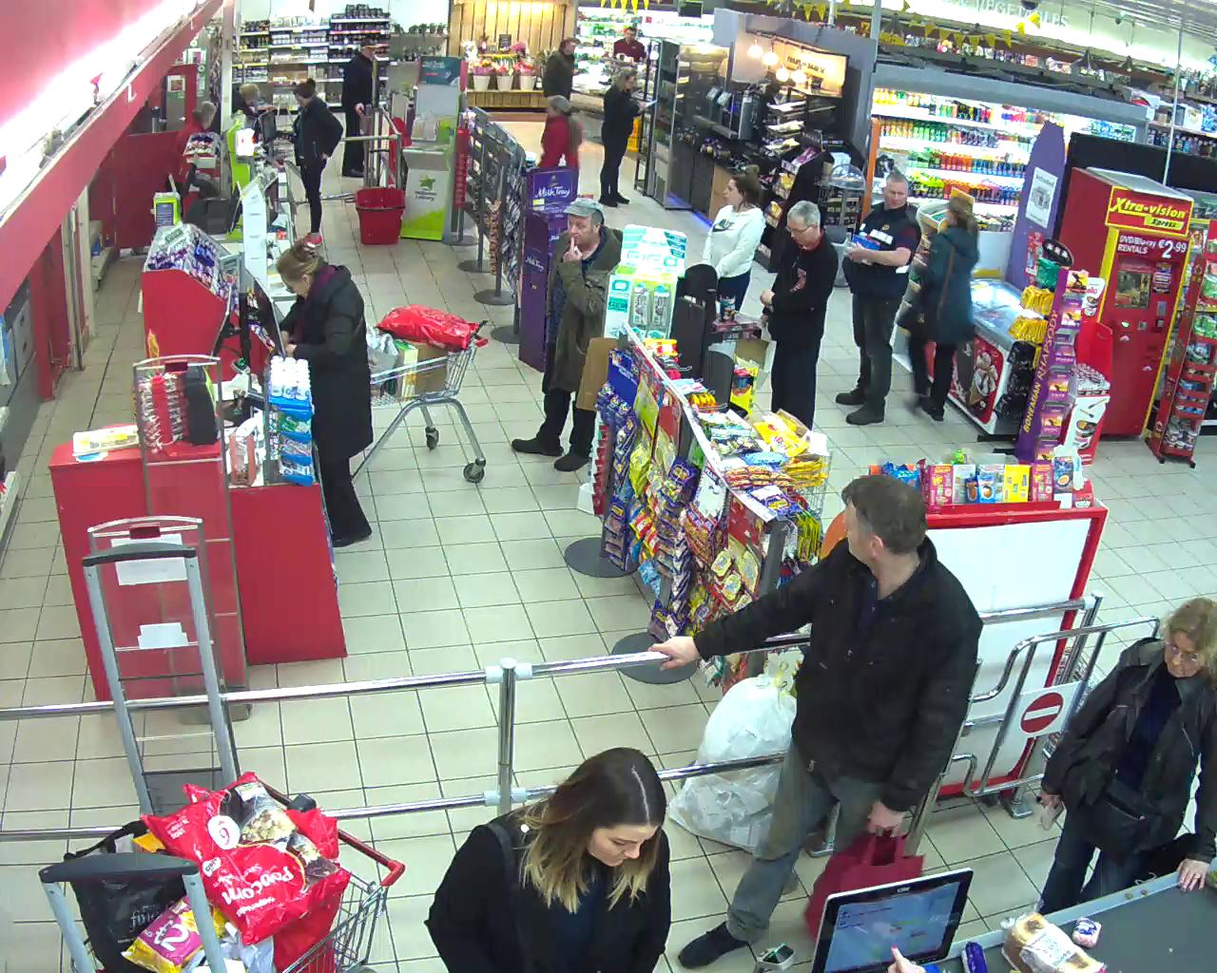backpack-or-handbag: (896, 298, 946, 339)
carrying-item: (841, 231, 883, 267)
filled-shopping-bags: (806, 821, 925, 943)
filled-trolly: (348, 302, 487, 486)
occupied-checkout-counter: (169, 99, 279, 161)
person: (649, 473, 984, 968), (273, 244, 374, 548), (909, 197, 978, 422)
person-with-backpack-handbag: (896, 196, 980, 425)
person-with-carrying-item: (836, 170, 921, 425)
person-with-filled-basket-trolly: (273, 242, 486, 550)
person-with-filled-shopping-bag-s-: (650, 471, 983, 968)
vacant-checkout-counter: (97, 260, 285, 439), (135, 160, 283, 244)
